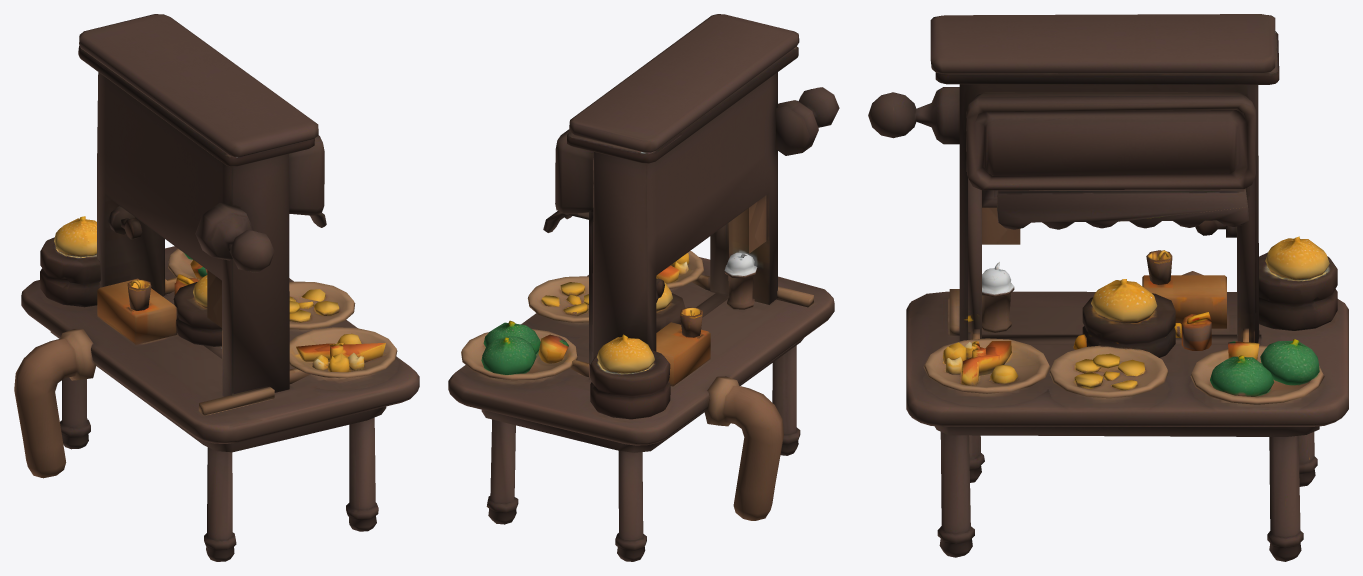
Rendered from 早餐摊位3d模型.fbx.
3 renders of one model, left to right at view 1: azimuth 30°, elevation 25°; view 2: azimuth 150°, elevation 25°; view 3: azimuth 270°, elevation 25°, orthographic. The views are drawn at different scales.
Parts seen in each view (by area): view 1: meshes[0]; view 2: meshes[0]; view 3: meshes[0].
Boxes of the visible parts, x1=… form: meshes[0]: x1=14, y1=14, x2=419, y2=561; meshes[0]: x1=448, y1=14, x2=839, y2=561; meshes[0]: x1=868, y1=14, x2=1348, y2=561.
Bounding box in the file's own units: 0.7207 × 0.998 × 0.9316.
1 material, 1 textured.
